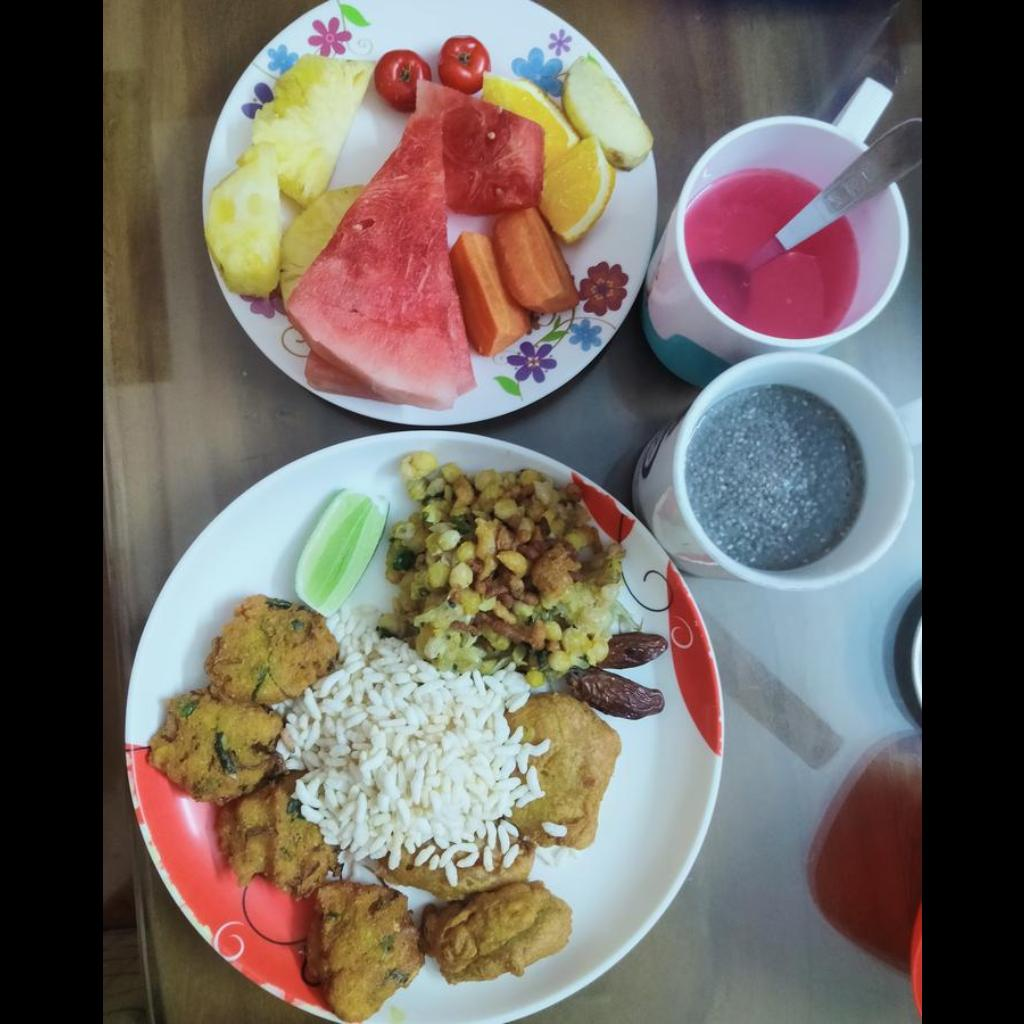apple: (561, 57, 650, 170)
carrot: (448, 207, 576, 356)
chop-alu: (512, 693, 620, 850)
daal: (378, 453, 628, 686)
dates: (565, 634, 666, 719)
juice: (686, 385, 863, 571)
lemon: (293, 488, 388, 617)
orange: (482, 74, 614, 242)
peyaju: (147, 598, 417, 1023)
pineapple: (207, 57, 377, 295)
puffed-rice: (278, 613, 547, 884)
watermelon: (296, 77, 545, 407), (693, 173, 856, 338)
